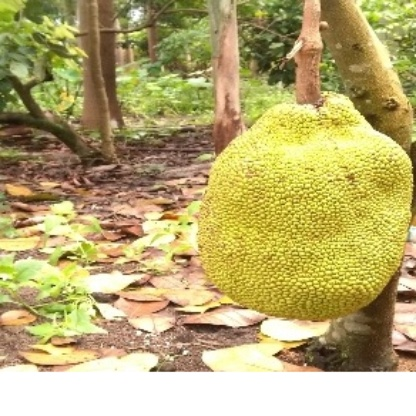mit: (192, 82, 414, 322)
